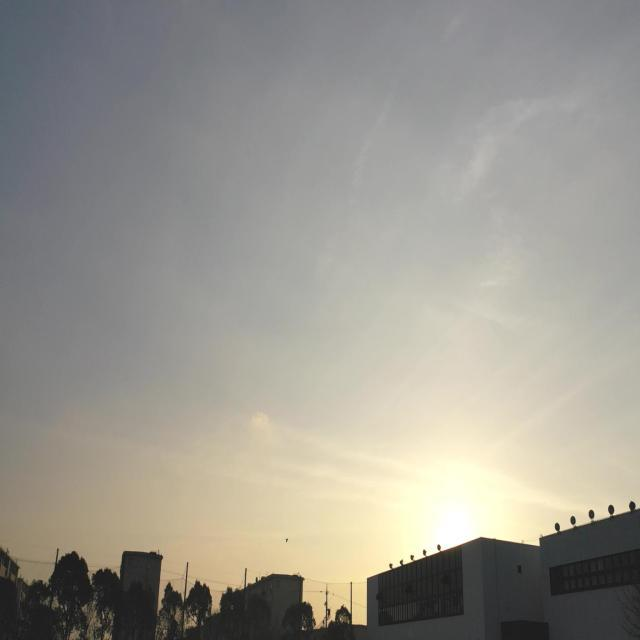Birds: (282, 532, 293, 546)
